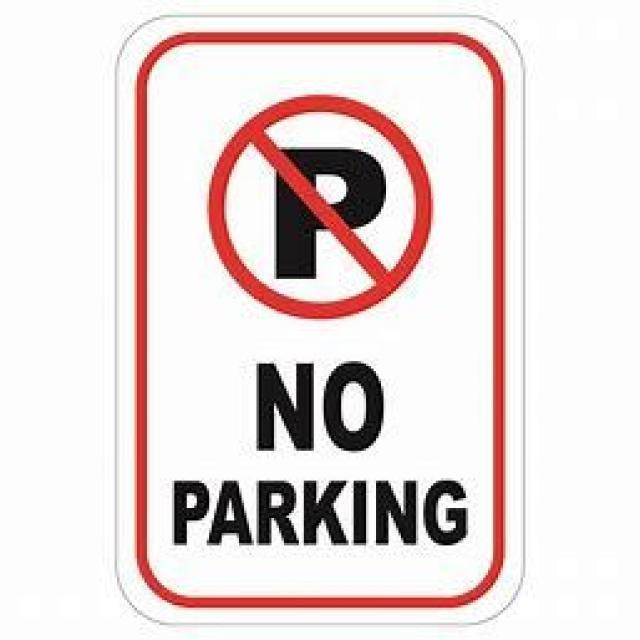no parking: (201, 90, 439, 325)
